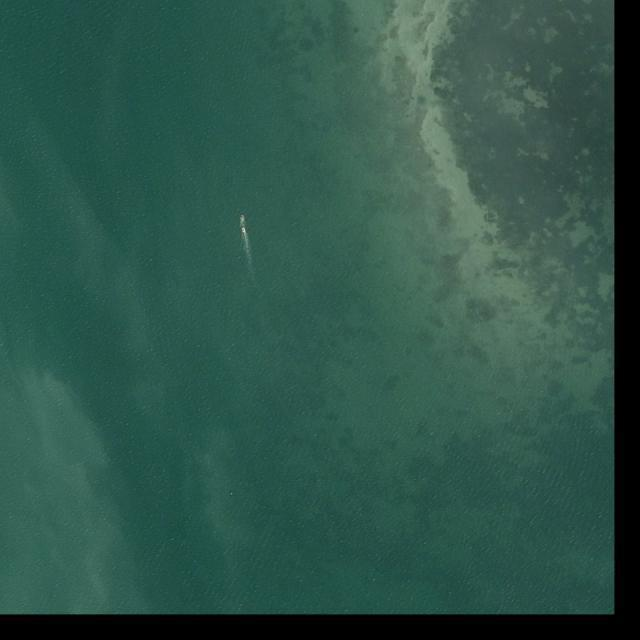ship: (240, 214, 246, 220), (242, 227, 246, 234)
